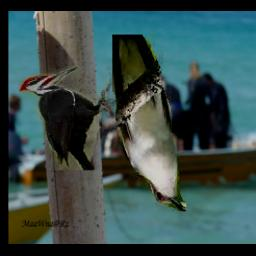Cuckoo: (113, 35, 187, 211)
Woodpecker: (19, 67, 117, 171)
